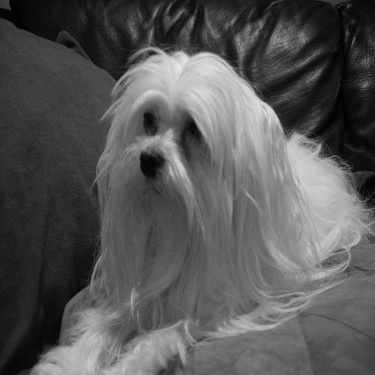dog: (23, 35, 373, 371)
